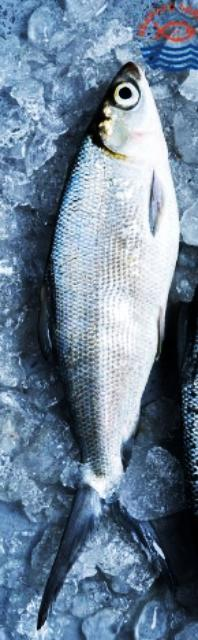Healthy Fish: (40, 62, 178, 584)
